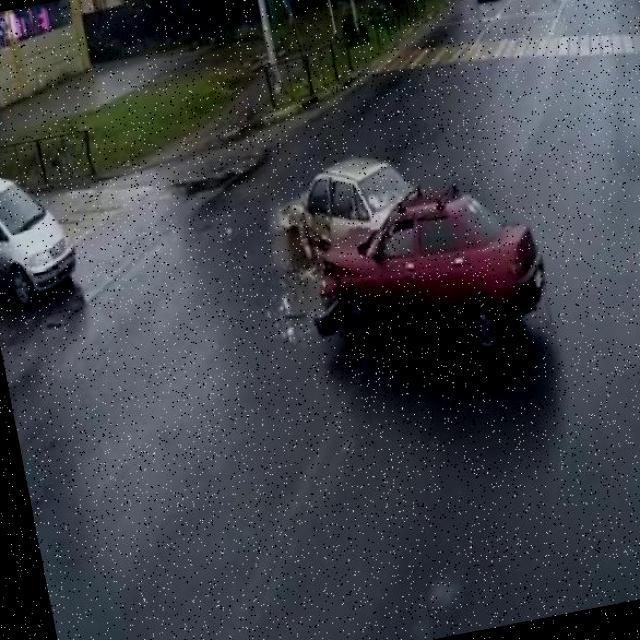accident: (271, 157, 433, 329)
